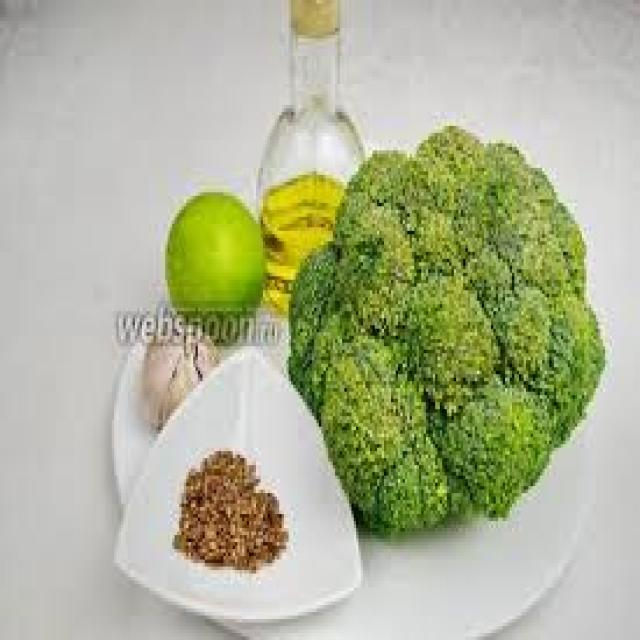Garlic: (132, 310, 230, 431)
broccoli: (293, 122, 640, 616)
